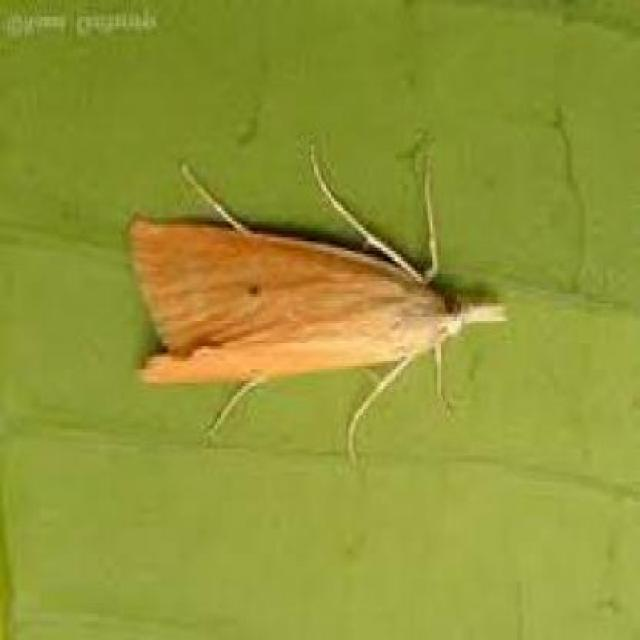stem-borer: (123, 155, 506, 474)
